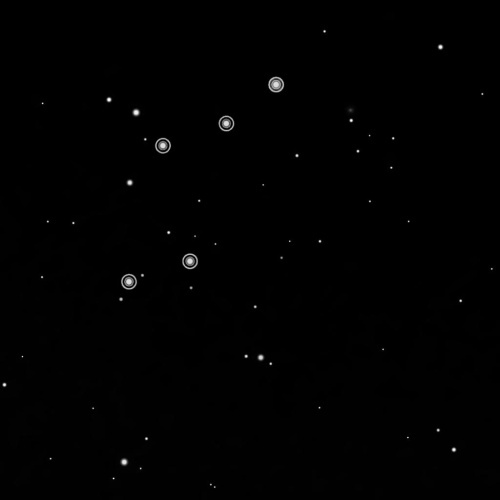lyra: (117, 67, 290, 297)
